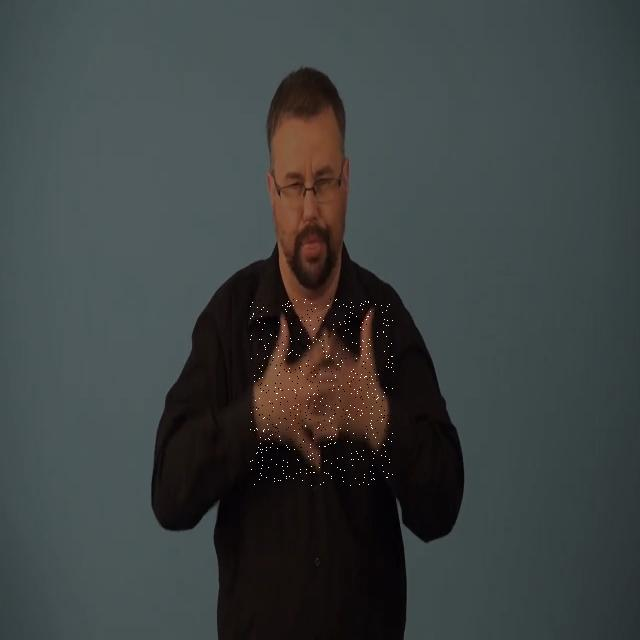juicy: (250, 299, 394, 486)
